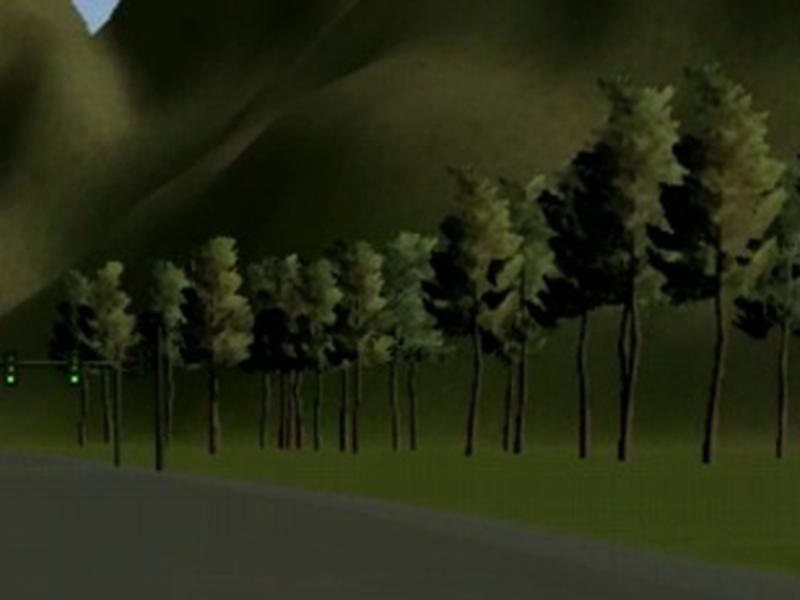Green: (67, 351, 82, 387), (5, 350, 16, 387)
